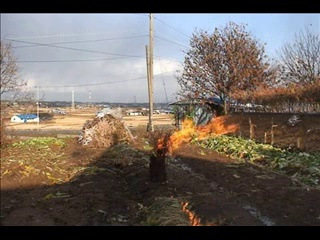fire: (155, 121, 193, 158), (192, 115, 244, 139), (179, 196, 203, 225)
